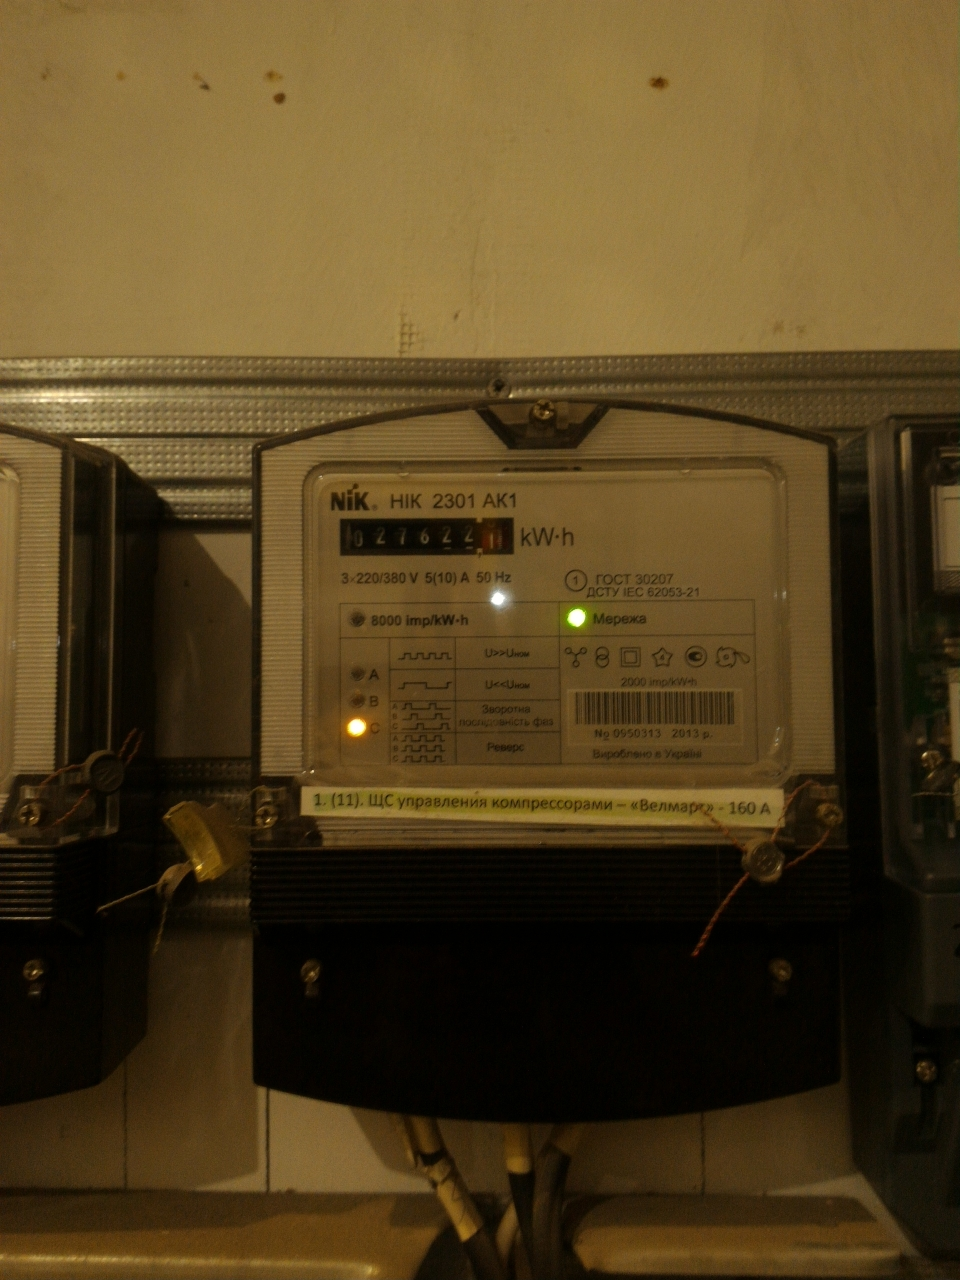0: (352, 527, 365, 549)
1: (487, 530, 495, 550)
2: (440, 524, 453, 544), (463, 523, 474, 544), (375, 525, 386, 545)
6: (419, 525, 430, 545)
7: (396, 525, 408, 546)
screen: (332, 511, 522, 562)
